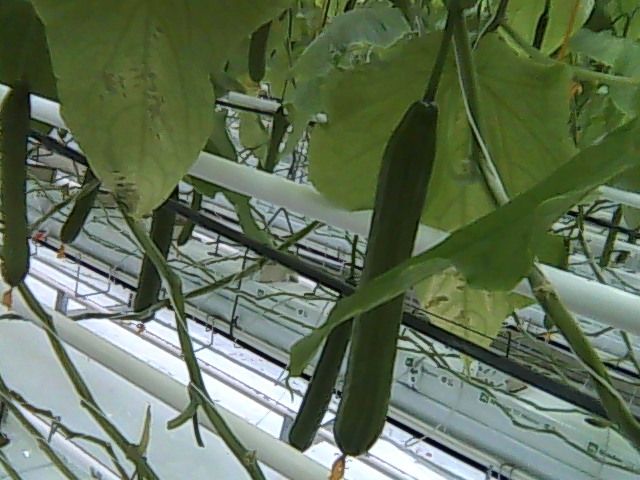concombre: (332, 89, 445, 480), (1, 70, 39, 316)
